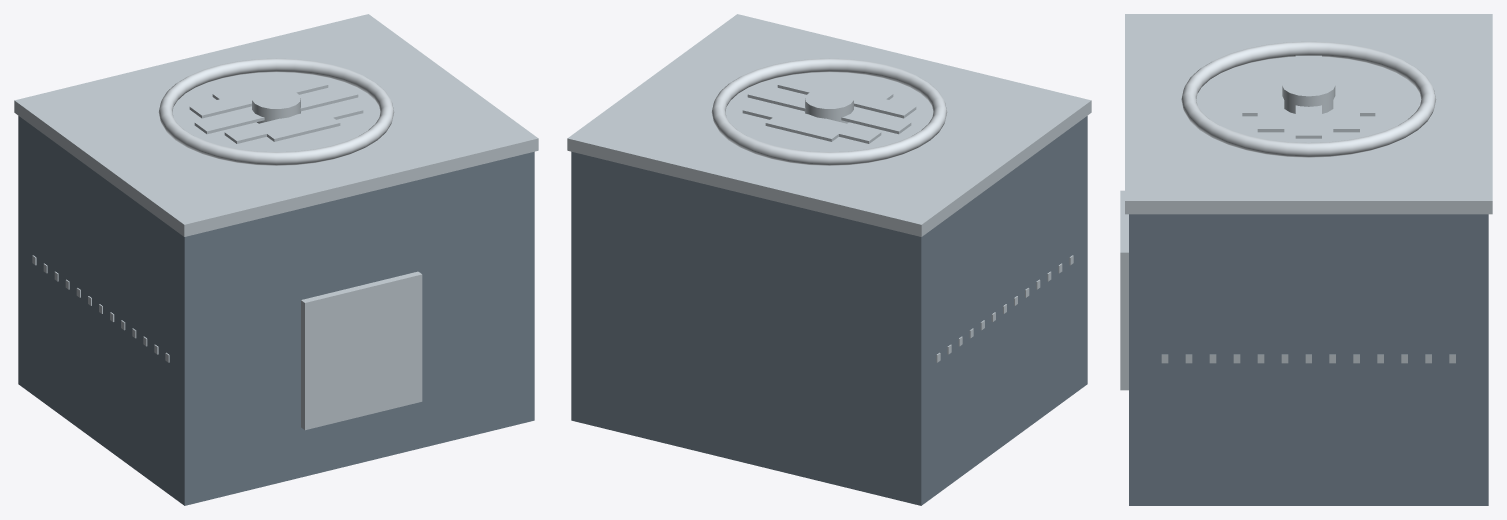
Rendered from roof_hvac01.glb.
3 views of the same model, side by side, from view 1: azimuth 30°, elevation 25°; view 2: azimuth 150°, elevation 25°; view 3: azimuth 270°, elevation 25° (orthographic). The views are drawn at different scales.
Visible parts, largest first — view 1: housing_steel_painted_0, top_grille_steel_brushed_1, service_hatch_steel_brushed_7, fan_rim_chrome_2, fan_blade_steel_brushed_3, fan_hub_steel_brushed_4; view 2: housing_steel_painted_0, top_grille_steel_brushed_1, fan_rim_chrome_2, fan_blade_steel_brushed_3, fan_hub_steel_brushed_4; view 3: housing_steel_painted_0, top_grille_steel_brushed_1, fan_rim_chrome_2, fan_blade_steel_brushed_3, fan_hub_steel_brushed_4, service_hatch_steel_brushed_7, louvers_steel_brushed_5.
Boxes of the visible parts, left/top/right/bottom form: housing_steel_painted_0: left=18, top=116, right=534, bottom=505; top_grille_steel_brushed_1: left=14, top=14, right=538, bottom=236; service_hatch_steel_brushed_7: left=301, top=271, right=422, bottom=430; fan_rim_chrome_2: left=158, top=58, right=394, bottom=165; fan_blade_steel_brushed_3: left=189, top=76, right=363, bottom=143; fan_hub_steel_brushed_4: left=252, top=88, right=300, bottom=123; housing_steel_painted_0: left=571, top=116, right=1087, bottom=505; top_grille_steel_brushed_1: left=567, top=14, right=1091, bottom=236; fan_rim_chrome_2: left=711, top=58, right=947, bottom=165; fan_blade_steel_brushed_3: left=742, top=76, right=916, bottom=143; fan_hub_steel_brushed_4: left=805, top=88, right=853, bottom=123; housing_steel_painted_0: left=1129, top=214, right=1488, bottom=505; top_grille_steel_brushed_1: left=1125, top=14, right=1492, bottom=214; fan_rim_chrome_2: left=1181, top=41, right=1436, bottom=157; fan_blade_steel_brushed_3: left=1242, top=55, right=1375, bottom=138; fan_hub_steel_brushed_4: left=1282, top=74, right=1335, bottom=113; service_hatch_steel_brushed_7: left=1120, top=190, right=1128, bottom=390; louvers_steel_brushed_5: left=1161, top=354, right=1455, bottom=363.
Bounding box in the file's own units: 1.66 × 1.37 × 1.4.
